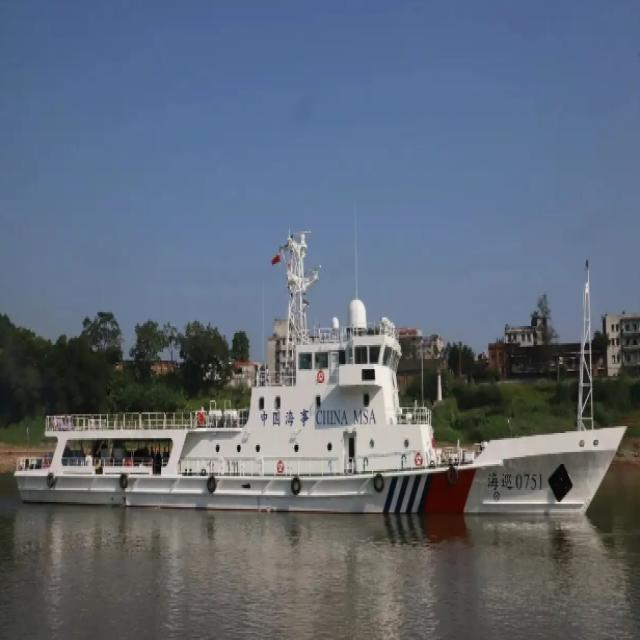navalvessels: (17, 235, 627, 527)
